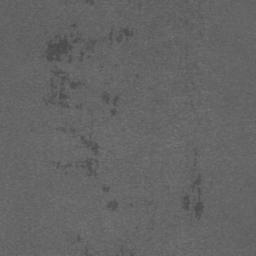Iron scale compression: (48, 39, 68, 61), (81, 138, 98, 154), (59, 75, 67, 107), (45, 78, 54, 103), (79, 159, 92, 171), (195, 204, 203, 217), (107, 201, 117, 211), (183, 197, 188, 209), (195, 177, 201, 186), (110, 109, 117, 116)
